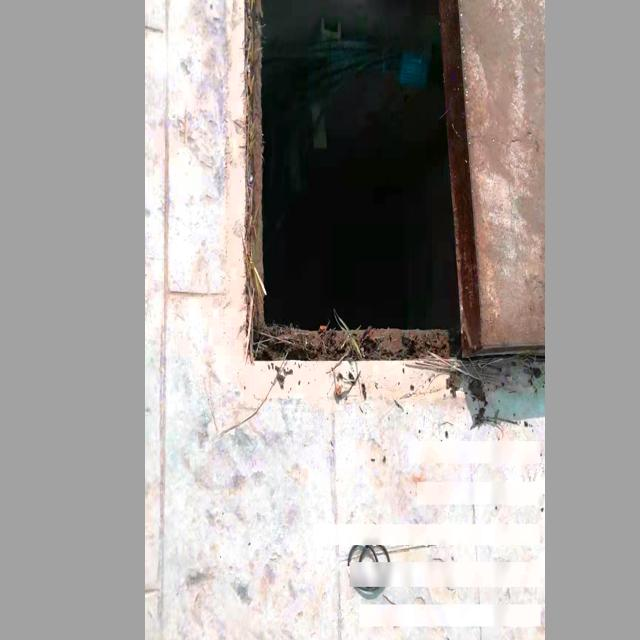uncovered: (248, 0, 541, 363)
